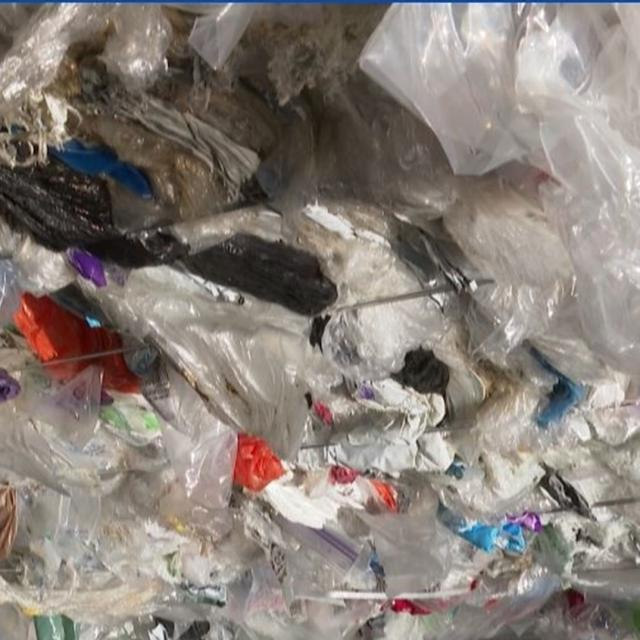Single-layer Plastic: (360, 4, 640, 349), (311, 71, 575, 351), (96, 265, 310, 459), (0, 365, 166, 588), (0, 4, 172, 155)
